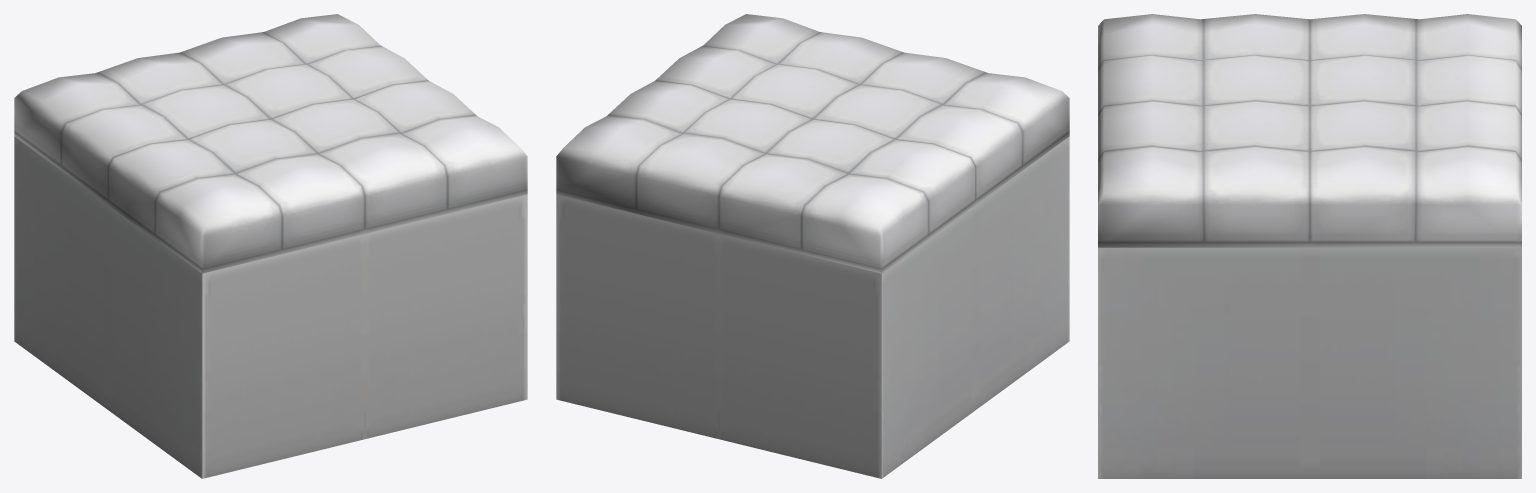
File: my_gamedevdept_01_chair_01.glb
3 renders of one model, left to right at view 1: azimuth 30°, elevation 25°; view 2: azimuth 150°, elevation 25°; view 3: azimuth 270°, elevation 25°, orthographic. The views are drawn at different scales.
Visible parts, largest first — view 1: my_gamedevdept_01_chair_01; view 2: my_gamedevdept_01_chair_01; view 3: my_gamedevdept_01_chair_01.
Part boxes in pixels (x1,y1,x2,y2): my_gamedevdept_01_chair_01: (14, 14, 527, 478); my_gamedevdept_01_chair_01: (556, 14, 1069, 478); my_gamedevdept_01_chair_01: (1098, 14, 1521, 478).
Bounding box in the file's own units: 0.00316 × 0.00246 × 0.00316.
Materials: 1 (1 with a texture image).
